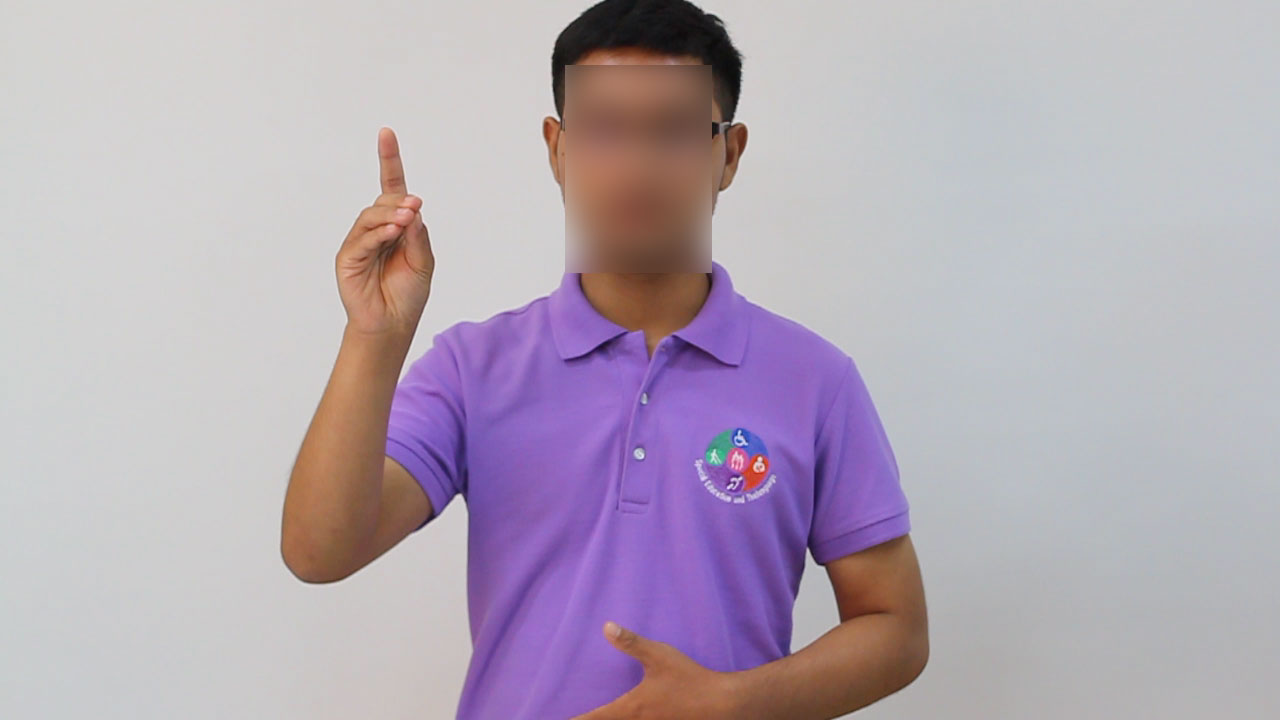dor: (328, 123, 447, 359)
